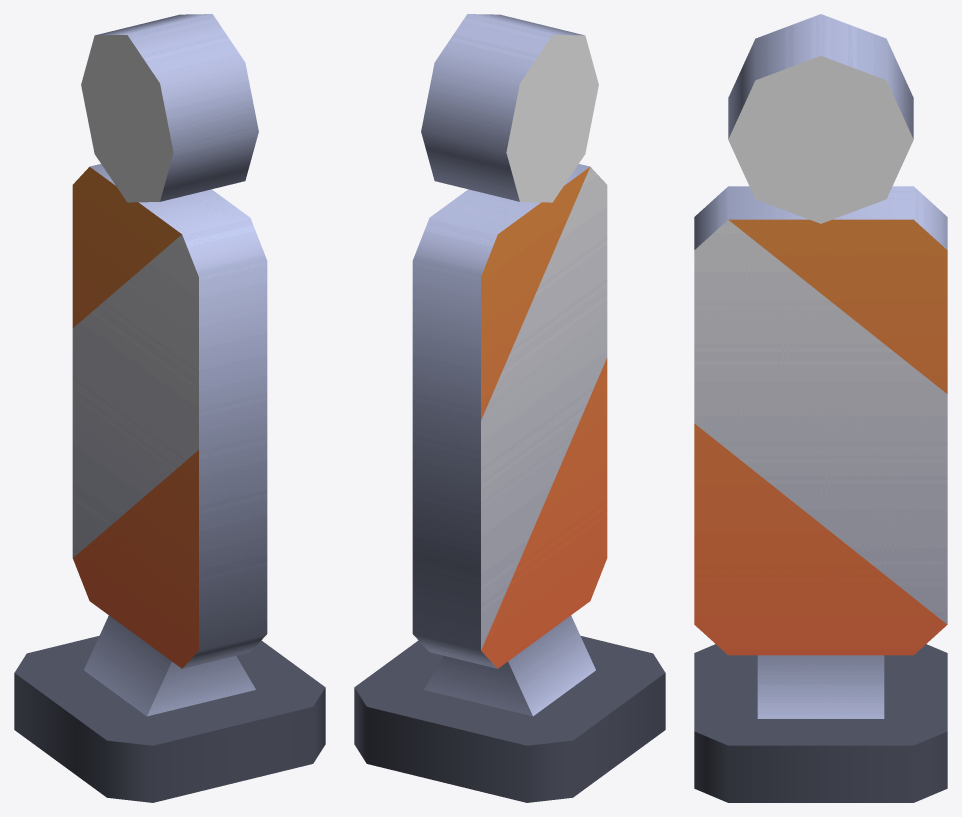
Rendered from construction-light.glb.
3 views of the same model, side by side, from view 1: azimuth 30°, elevation 25°; view 2: azimuth 150°, elevation 25°; view 3: azimuth 270°, elevation 25° (orthographic).
Parts seen in each view (by area): view 1: construction-light; view 2: construction-light; view 3: construction-light.
Part boxes in pixels (x1,y1,x2,y2): construction-light: (14,14,325,802); construction-light: (354,14,665,802); construction-light: (694,14,947,802).
Size of the model in its own units: 0.075 by 0.2337 by 0.075.
